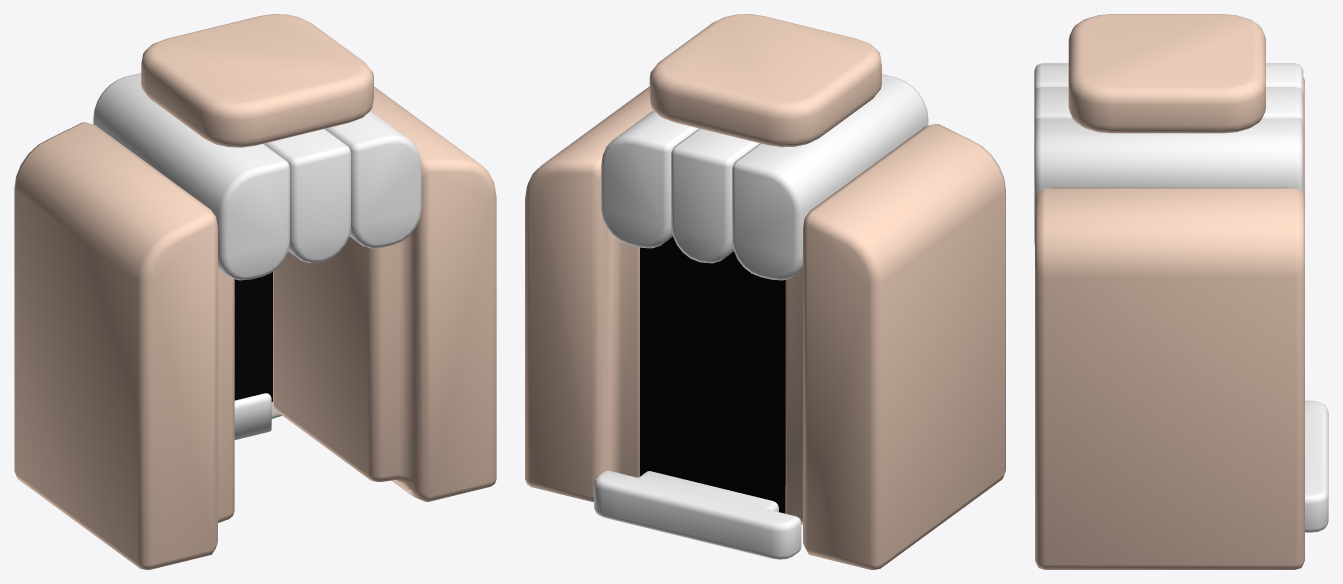
The model's file is M_GateUp.fbx.
3 views of the same model, side by side, from view 1: azimuth 30°, elevation 25°; view 2: azimuth 150°, elevation 25°; view 3: azimuth 270°, elevation 25° (orthographic). The views are drawn at different scales.
Parts seen in each view (by area): view 1: Gate_Up, Gate_Up-Color; view 2: Gate_Up, Gate_Up-Color; view 3: Gate_Up, Gate_Up-Color.
Boxes of the visible parts, x1=… form: Gate_Up: x1=14, y1=14, x2=496, y2=569; Gate_Up-Color: x1=93, y1=73, x2=421, y2=439; Gate_Up: x1=525, y1=14, x2=1005, y2=569; Gate_Up-Color: x1=594, y1=74, x2=928, y2=559; Gate_Up: x1=1035, y1=14, x2=1304, y2=569; Gate_Up-Color: x1=1034, y1=63, x2=1328, y2=532.
Bounding box in the file's own units: 1.92 × 2.18 × 1.34.
